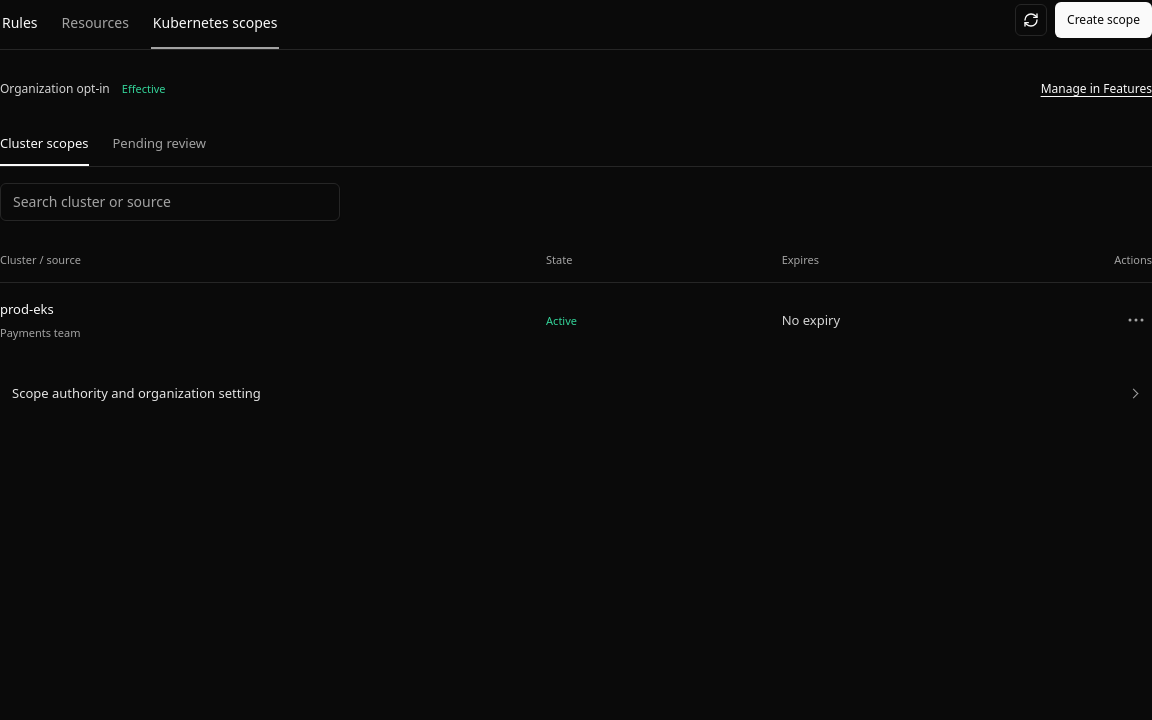
Test: S20.4 Access-owned Kubernetes scope governance › withdraws a stale approval confirmation and reloads evidence after a server conflict
This screenshot has width=1152, height=720.
Click the button "Pending review" at {"x": 159, "y": 145}, box [112,124,206,166]
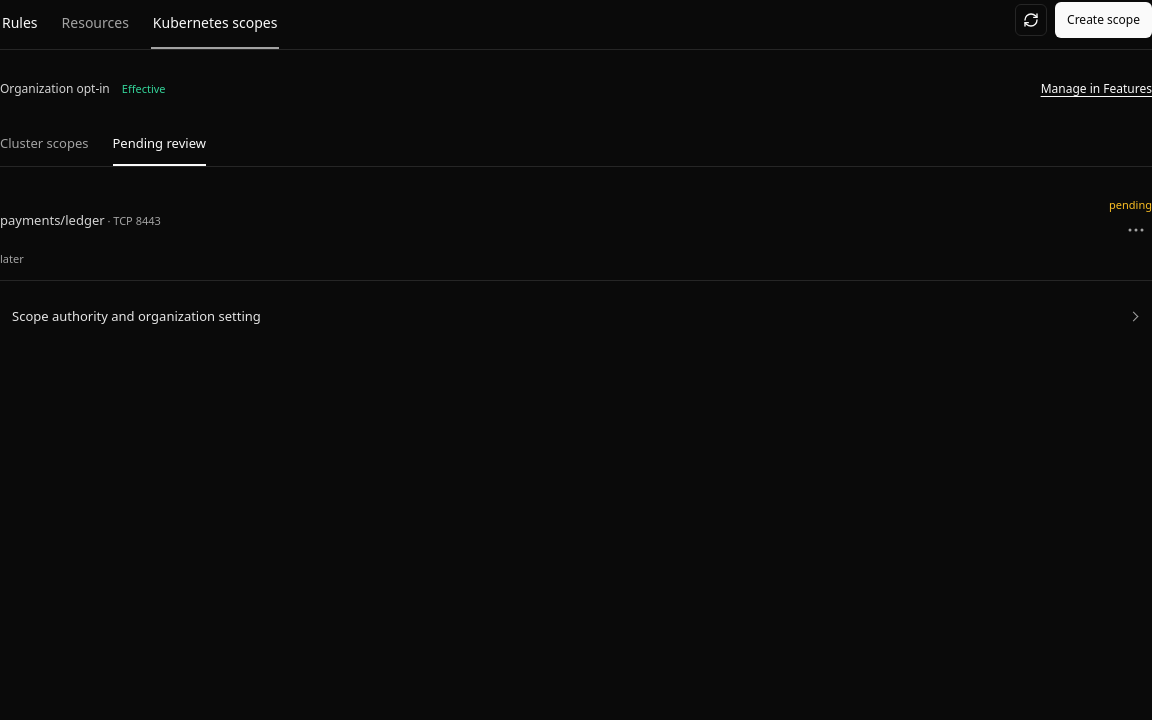
Click the button named "Actions for payments/ledger TCP 8443" at {"x": 1136, "y": 230}, box [1120,214,1151,246]
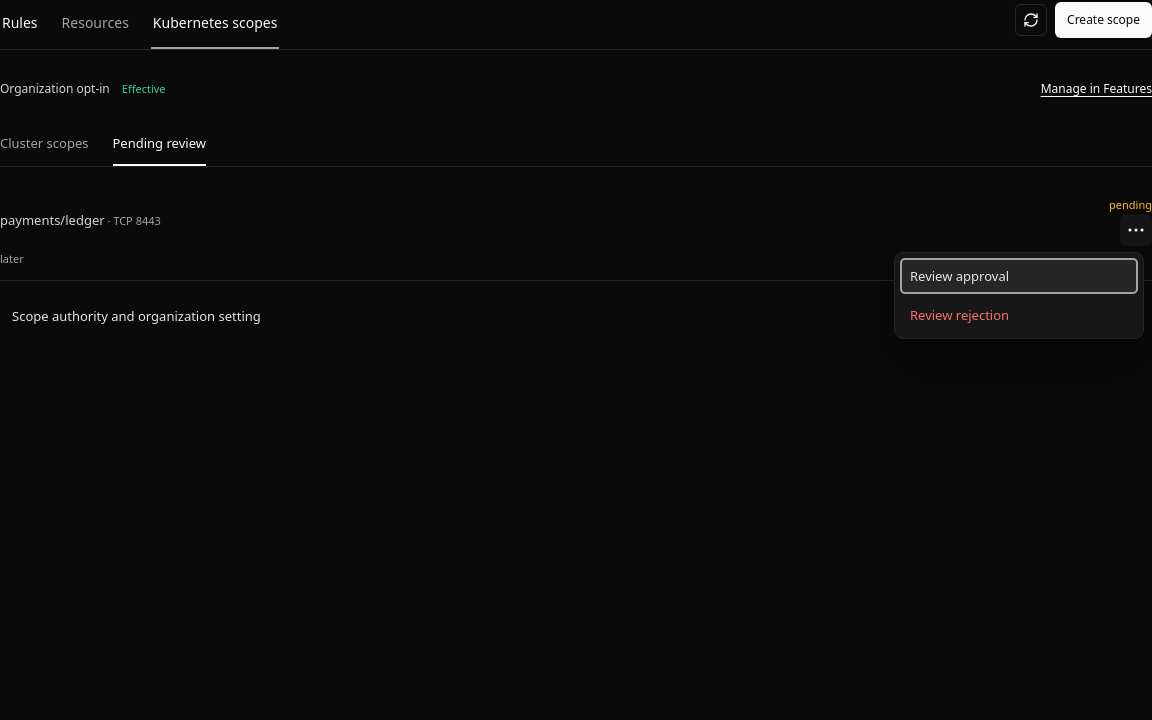
Click the menu item "Review approval" at {"x": 1019, "y": 276}, box [900,258,1138,294]
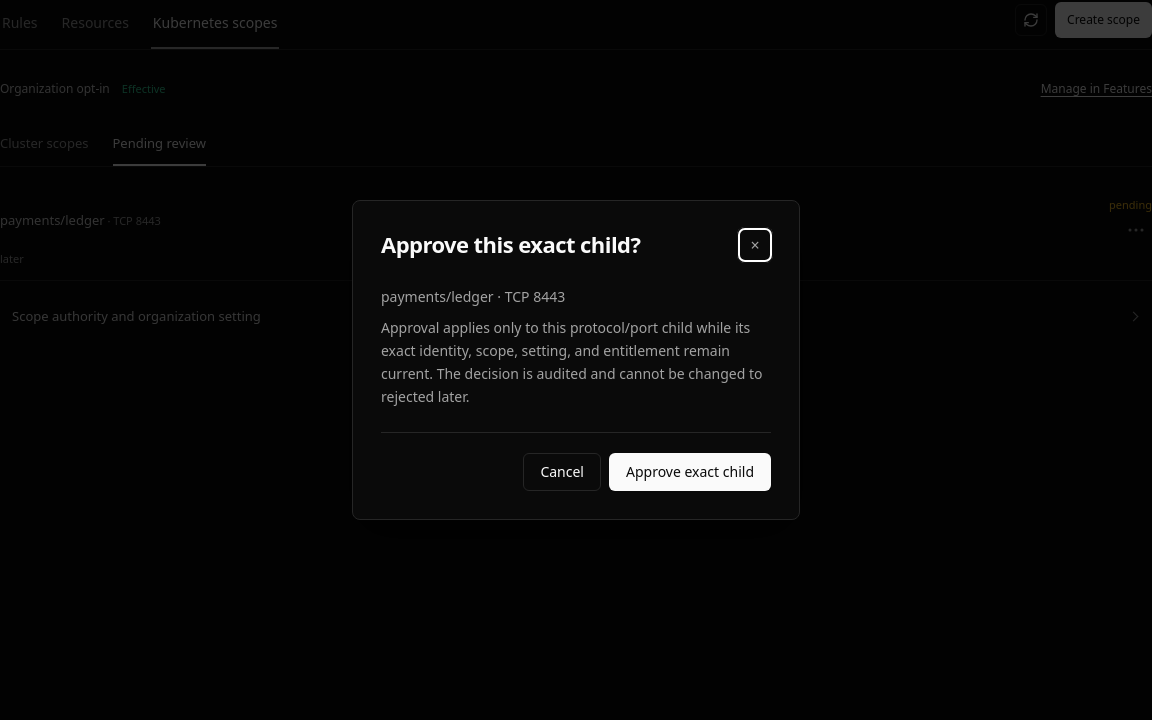
Click the button "Approve exact child" at {"x": 690, "y": 472}, box [609,453,771,491]
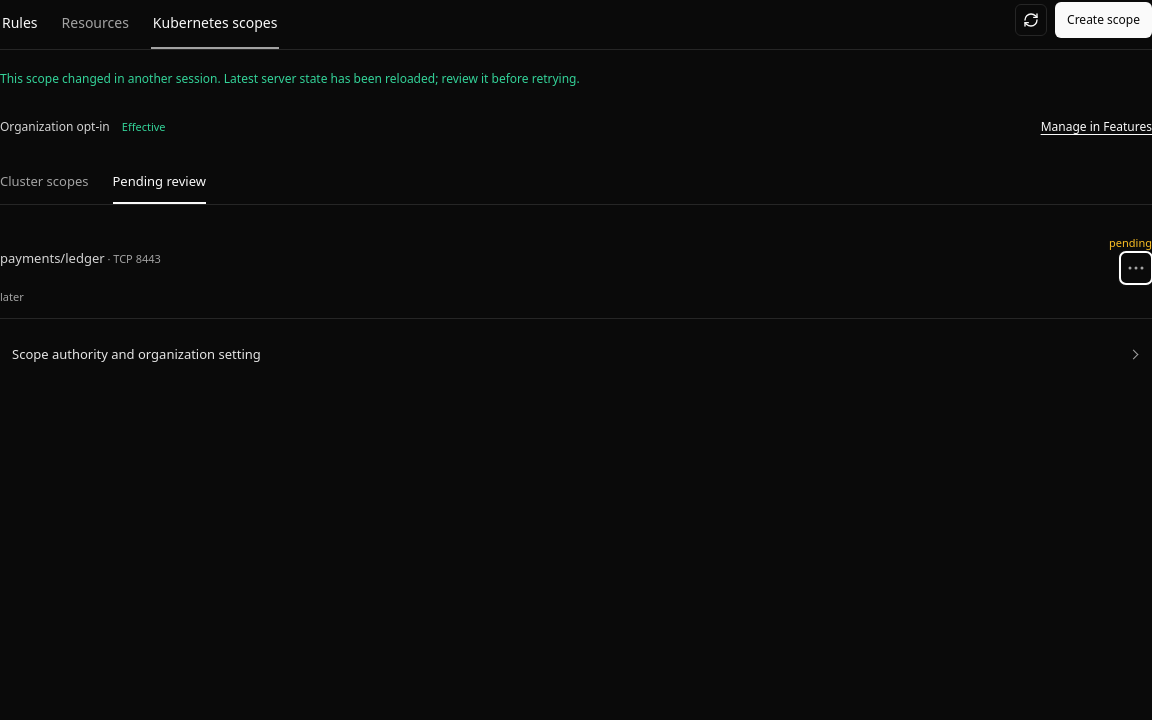
Expected: the text "This scope changed in another session. Latest server state has been reloaded; review it before retrying." is shown, [0,70,580,87]
Expected: the dialog is gone
